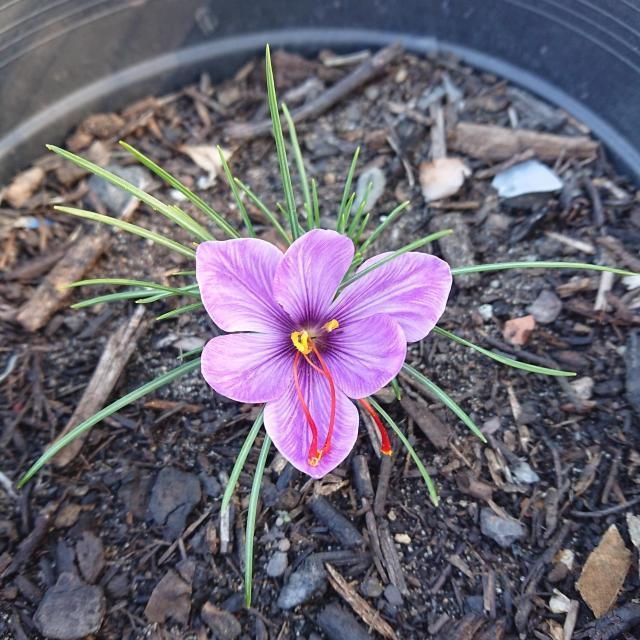Flower: (197, 230, 449, 478)
stigma: (283, 355, 319, 462), (315, 351, 342, 456), (358, 398, 393, 458)
